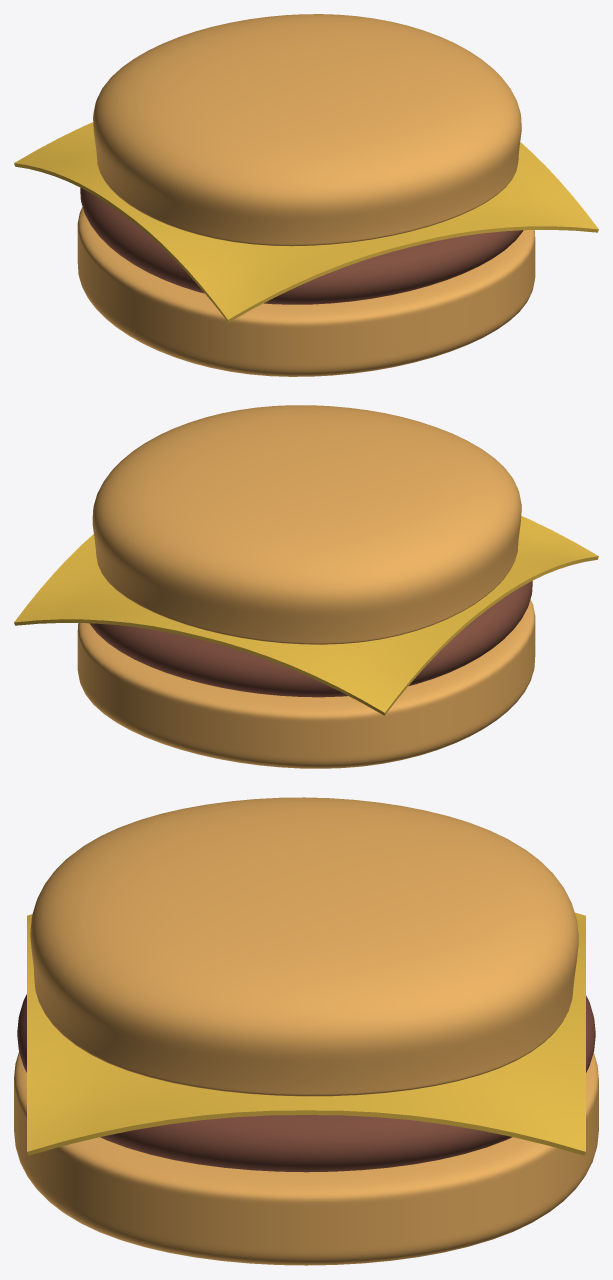
Rendered from hamburger.glb.
The picture shows the model from 3 angles, top to bottom: view 1: azimuth 30°, elevation 25°; view 2: azimuth 150°, elevation 25°; view 3: azimuth 270°, elevation 25°; orthographic projection. The views are drawn at different scales.
Parts seen in each view (by area): view 1: Cube.002, Cube, Plane, Cube.001; view 2: Cube.002, Cube, Plane, Cube.001; view 3: Cube.002, Cube, Plane, Cube.001.
Part boxes in pixels (x1=…): Cube.002: x1=93, y1=14, x2=521, y2=246; Cube: x1=77, y1=207, x2=535, y2=376; Plane: x1=14, y1=122, x2=598, y2=322; Cube.001: x1=80, y1=187, x2=523, y2=304; Cube.002: x1=92, y1=405, x2=521, y2=644; Cube: x1=77, y1=599, x2=535, y2=768; Plane: x1=14, y1=516, x2=598, y2=715; Cube.001: x1=89, y1=581, x2=532, y2=697; Cube.002: x1=30, y1=797, x2=578, y2=1096; Cube: x1=14, y1=1051, x2=598, y2=1265; Plane: x1=27, y1=912, x2=585, y2=1155; Cube.001: x1=17, y1=994, x2=595, y2=1172.
Bounding box in the file's own units: 9.07 × 5.01 × 9.07.
